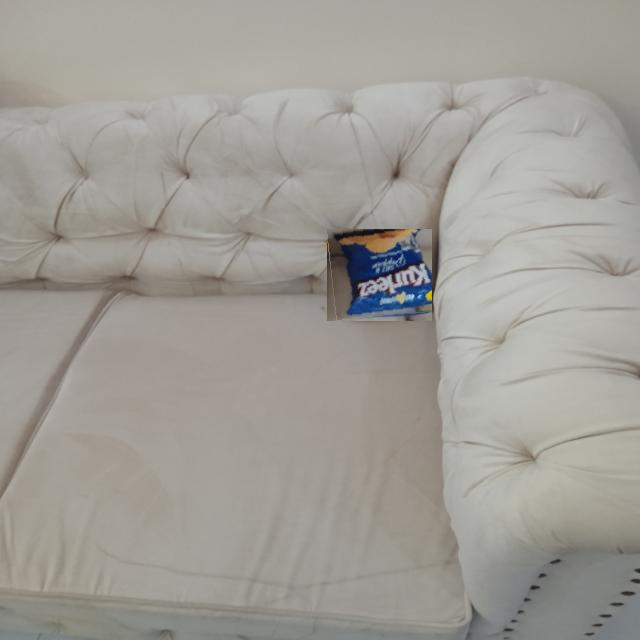Plastic: (327, 230, 432, 322)
